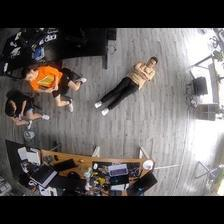fall: (91, 56, 161, 117)
normal: (27, 63, 86, 111), (5, 96, 49, 129)
